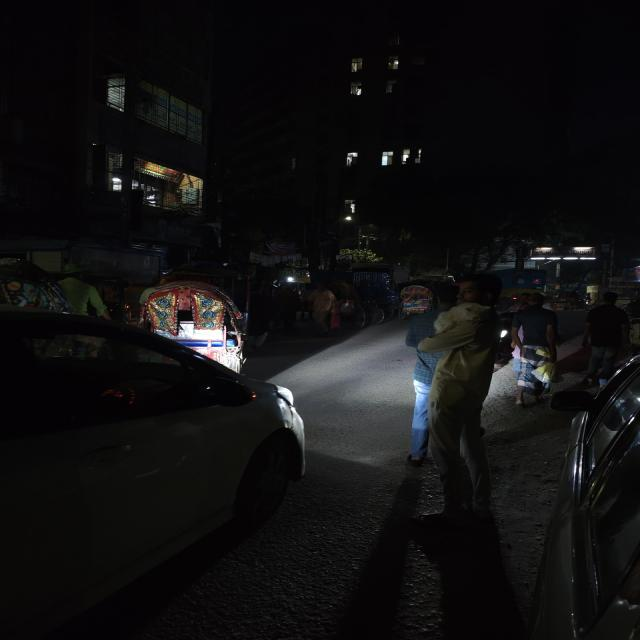car: (0, 289, 311, 585)
pedestrian: (404, 282, 507, 548), (508, 291, 564, 403), (579, 290, 627, 377), (305, 284, 340, 338)
rickshaw: (140, 273, 257, 363), (392, 280, 440, 319)
